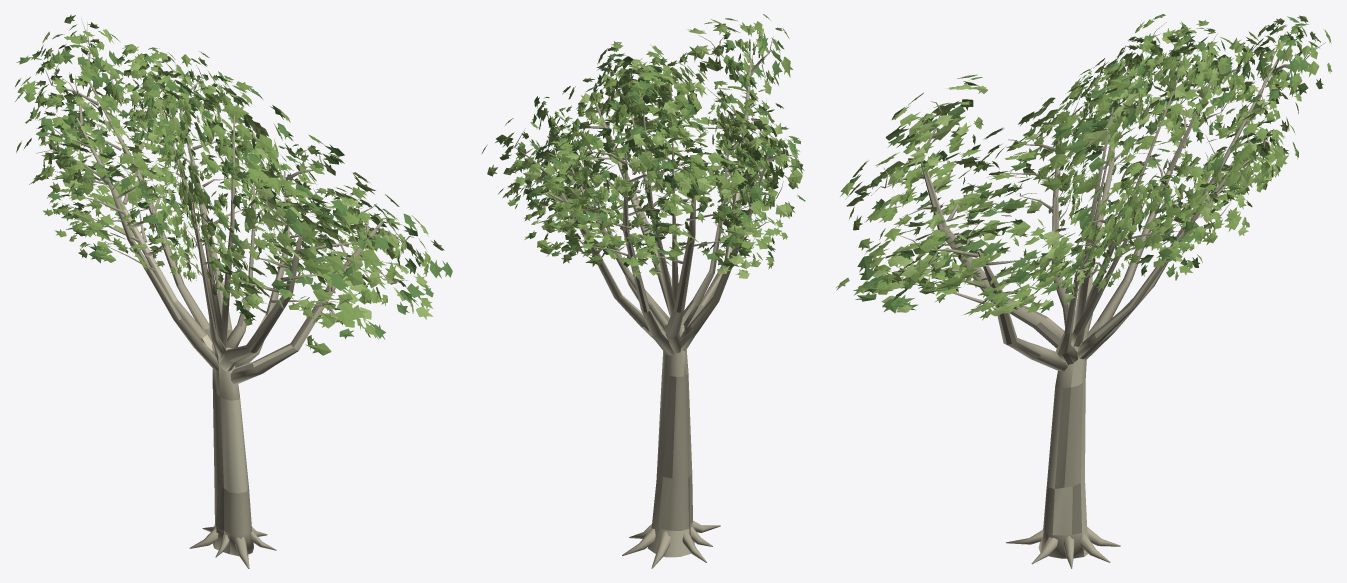
The picture shows the model from 3 angles, left to right: view 1: azimuth 30°, elevation 25°; view 2: azimuth 150°, elevation 25°; view 3: azimuth 270°, elevation 25°; orthographic projection. The views are drawn at different scales.
Visible parts, largest first — view 1: tree_plane_b_PlaneLeaf, tree_plane_b_PlaneBark, tree_plane_b_PlaneLeafDark, tree_plane_b_PlaneLeafLight, tree_plane_b_PlaneBarkPale, tree_plane_b_PlaneBarkBrown; view 2: tree_plane_b_PlaneLeaf, tree_plane_b_PlaneBark, tree_plane_b_PlaneLeafLight, tree_plane_b_PlaneLeafDark, tree_plane_b_PlaneBarkPale, tree_plane_b_PlaneBarkBrown; view 3: tree_plane_b_PlaneLeaf, tree_plane_b_PlaneBark, tree_plane_b_PlaneLeafDark, tree_plane_b_PlaneLeafLight, tree_plane_b_PlaneBarkPale, tree_plane_b_PlaneBarkBrown.
Part boxes in pixels (left/top/right/bottom): tree_plane_b_PlaneLeaf: left=16, top=14, right=437, bottom=355; tree_plane_b_PlaneBark: left=34, top=18, right=414, bottom=568; tree_plane_b_PlaneLeafDark: left=16, top=24, right=452, bottom=339; tree_plane_b_PlaneLeafLight: left=15, top=29, right=444, bottom=339; tree_plane_b_PlaneBarkPale: left=76, top=66, right=382, bottom=553; tree_plane_b_PlaneBarkBrown: left=137, top=173, right=302, bottom=530; tree_plane_b_PlaneLeaf: left=481, top=14, right=804, bottom=269; tree_plane_b_PlaneBark: left=514, top=35, right=802, bottom=568; tree_plane_b_PlaneLeafLight: left=487, top=24, right=800, bottom=279; tree_plane_b_PlaneLeafDark: left=514, top=18, right=805, bottom=266; tree_plane_b_PlaneBarkPale: left=547, top=129, right=769, bottom=557; tree_plane_b_PlaneBarkBrown: left=572, top=59, right=750, bottom=528; tree_plane_b_PlaneLeaf: left=840, top=18, right=1332, bottom=320; tree_plane_b_PlaneBark: left=871, top=22, right=1325, bottom=568; tree_plane_b_PlaneLeafDark: left=849, top=14, right=1320, bottom=313; tree_plane_b_PlaneLeafLight: left=836, top=15, right=1317, bottom=316; tree_plane_b_PlaneBarkPale: left=917, top=140, right=1184, bottom=556; tree_plane_b_PlaneBarkBrown: left=916, top=59, right=1278, bottom=534.
Bounding box in the file's own units: 9.82 × 14.62 × 13.02.
